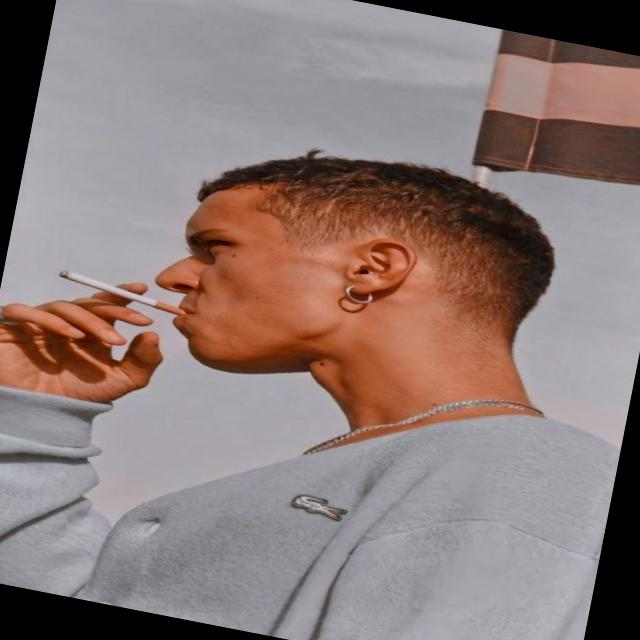smoke: (34, 254, 215, 334)
